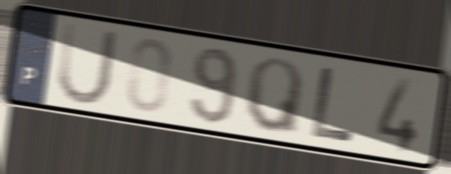0: (125, 35, 174, 116)
4: (374, 73, 422, 155)
9: (185, 44, 240, 127)
L: (309, 63, 359, 145)
Q: (242, 54, 306, 140)
U: (55, 19, 121, 109)
